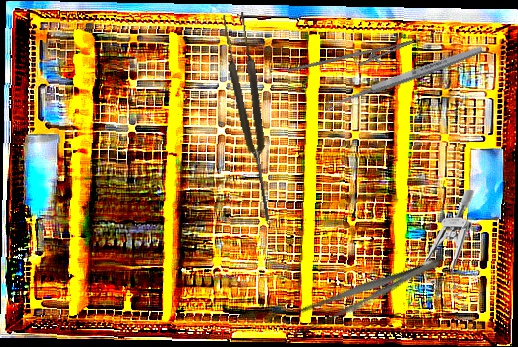Dressing Forceps: (285, 248, 445, 339)
Needle Holder: (286, 24, 419, 97)
Speculum: (421, 188, 474, 301)
Surgical Spoon: (325, 44, 484, 111)
Tissue Forceps: (220, 11, 280, 223)
